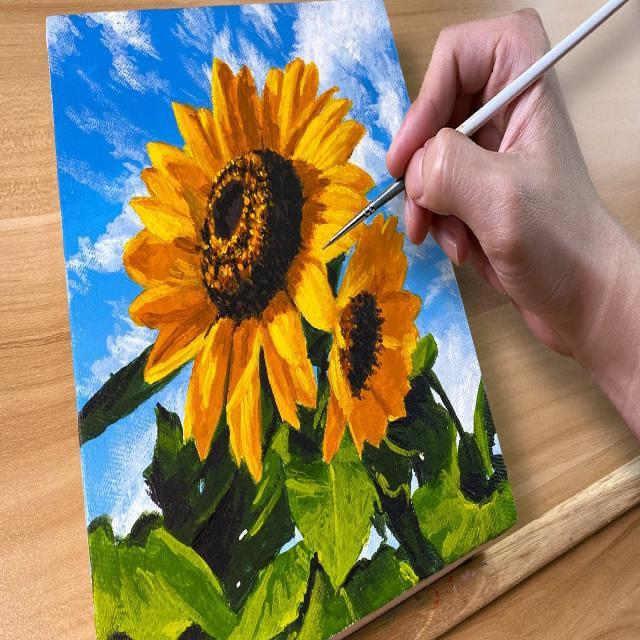sunflower: (121, 54, 376, 482), (323, 210, 422, 464)
